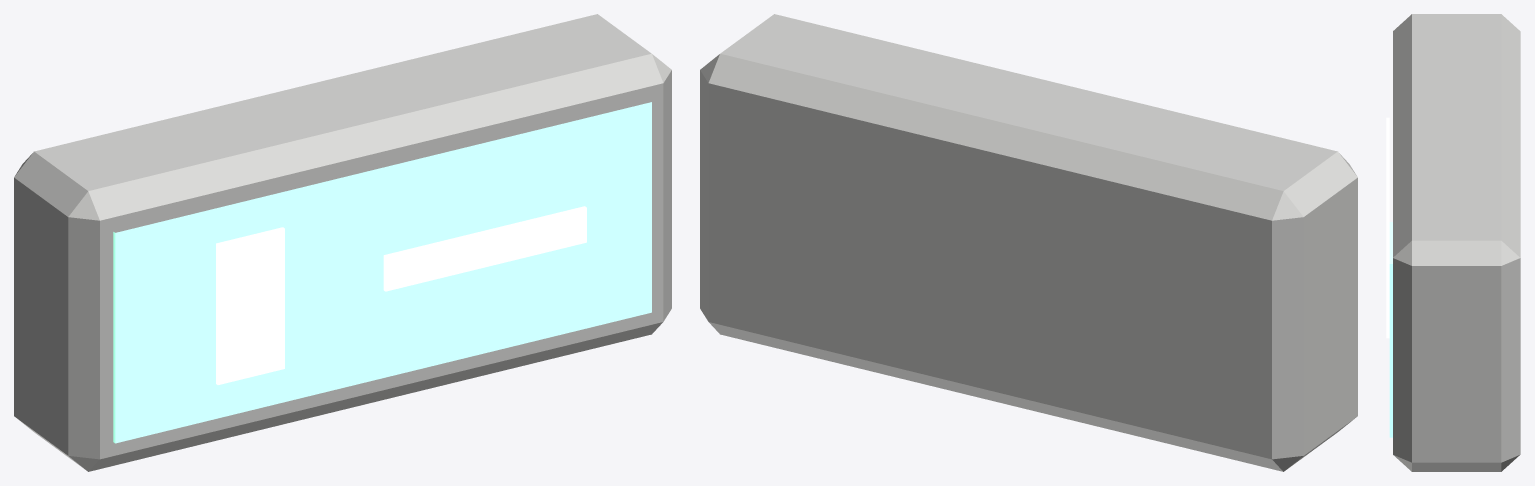
File: exit_sign.glb
The picture shows the model from 3 angles, left to right: view 1: azimuth 30°, elevation 25°; view 2: azimuth 150°, elevation 25°; view 3: azimuth 270°, elevation 25°; orthographic projection. The views are drawn at different scales.
Visible parts, largest first — view 1: exit_sign; view 2: exit_sign; view 3: exit_sign.
Part boxes in pixels (<box>): exit_sign: <box>14,14,671,471</box>; exit_sign: <box>700,14,1357,471</box>; exit_sign: <box>1386,14,1520,471</box>.
Bounding box in the file's own units: 0.36 × 0.16 × 0.084.
